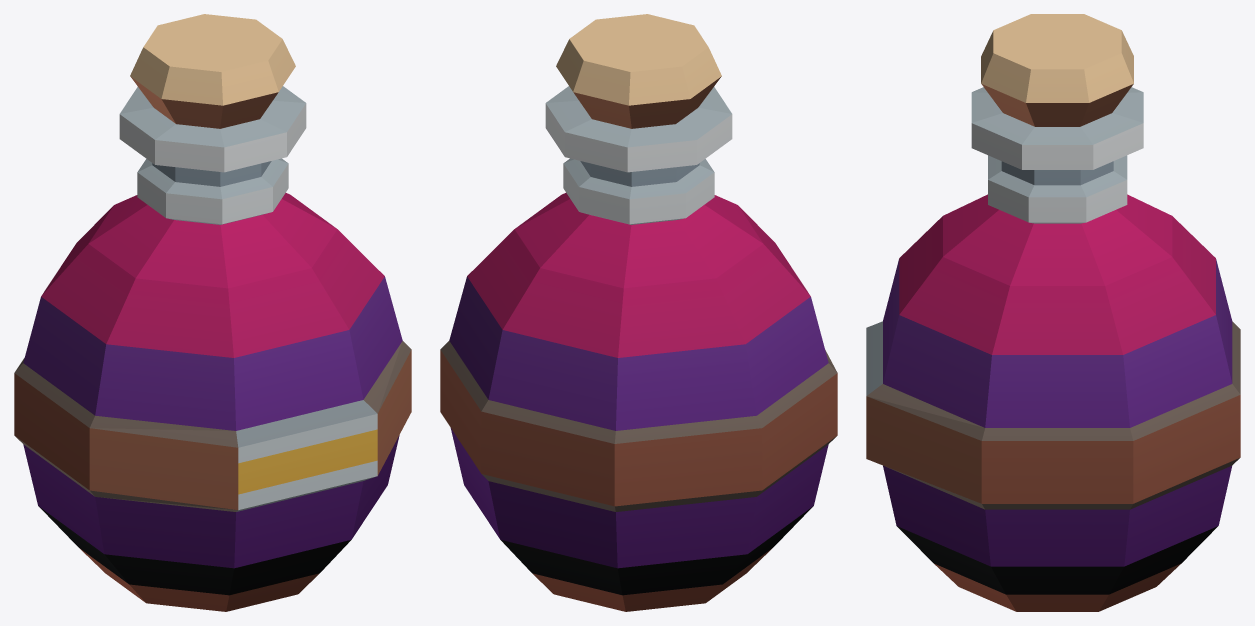
Rendered from source.glb.
3 renders of one model, left to right at view 1: azimuth 30°, elevation 25°; view 2: azimuth 150°, elevation 25°; view 3: azimuth 270°, elevation 25°, orthographic.
Parts seen in each view (by area): view 1: model; view 2: model; view 3: model.
Part boxes in pixels (x1,y1,x2,y2): model: (14,14,411,611); model: (440,14,837,611); model: (866,14,1240,611).
Size of the model in its own units: 0.72 by 1.12 by 0.72.
Materials: 1 (1 with a texture image).
